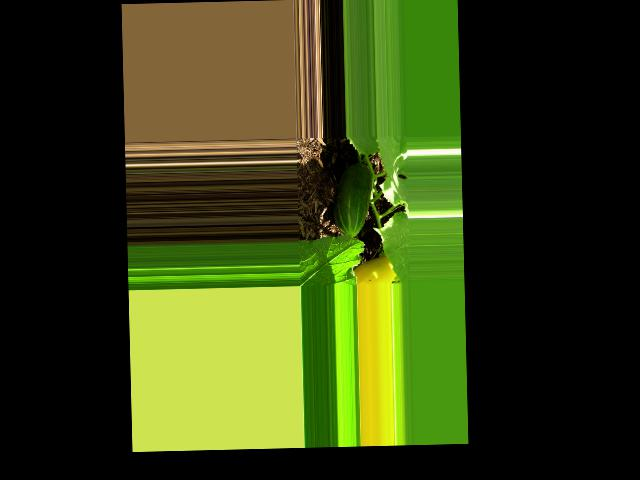cucumber: (331, 162, 373, 237)
